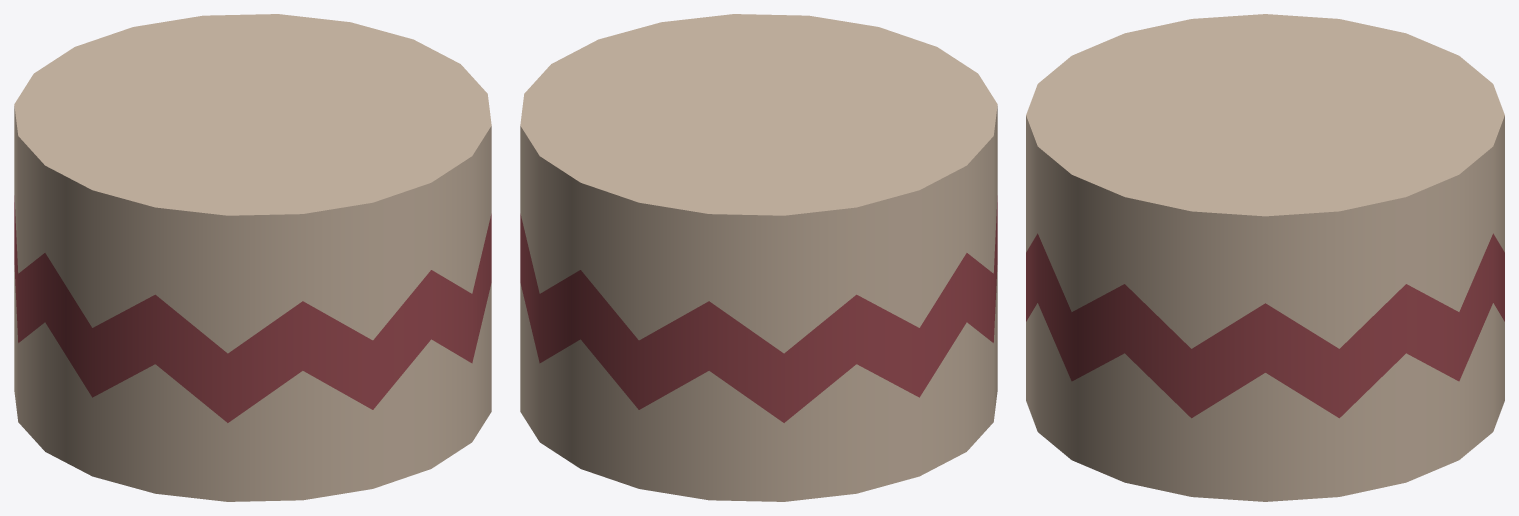
File: russie_tour3.fbx
The picture shows the model from 3 angles, left to right: view 1: azimuth 30°, elevation 25°; view 2: azimuth 150°, elevation 25°; view 3: azimuth 270°, elevation 25°; orthographic projection.
Visible parts, largest first — view 1: pasted__pCylinder5; view 2: pasted__pCylinder5; view 3: pasted__pCylinder5.
Boxes of the visible parts, left/top/right/bottom form: pasted__pCylinder5: left=14, top=14, right=491, bottom=501; pasted__pCylinder5: left=520, top=14, right=997, bottom=501; pasted__pCylinder5: left=1026, top=14, right=1504, bottom=501.
Size of the model in its own units: 1.5 by 0.9874 by 1.5.
